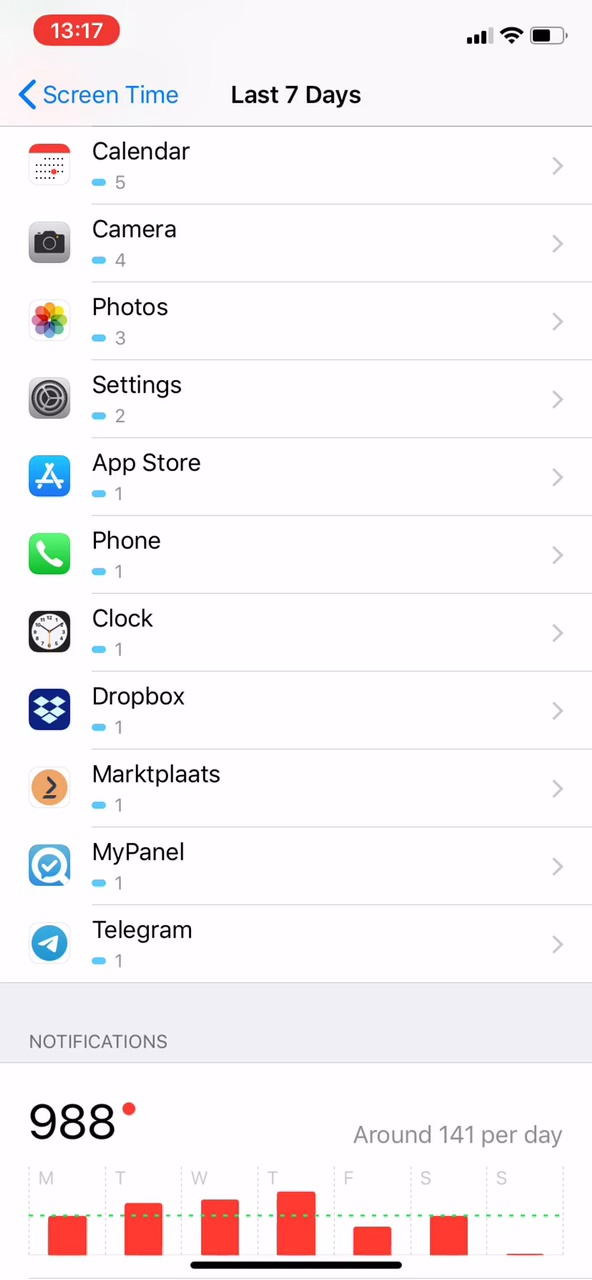not_over: (25, 1008, 198, 1155)
pick_app: (23, 677, 278, 755), (18, 210, 242, 291), (20, 760, 267, 833), (25, 516, 247, 594), (25, 599, 256, 672), (17, 835, 251, 907), (23, 439, 234, 514), (12, 908, 236, 975), (23, 364, 232, 435), (20, 132, 236, 200), (18, 294, 234, 358)
week: (213, 73, 376, 111)
